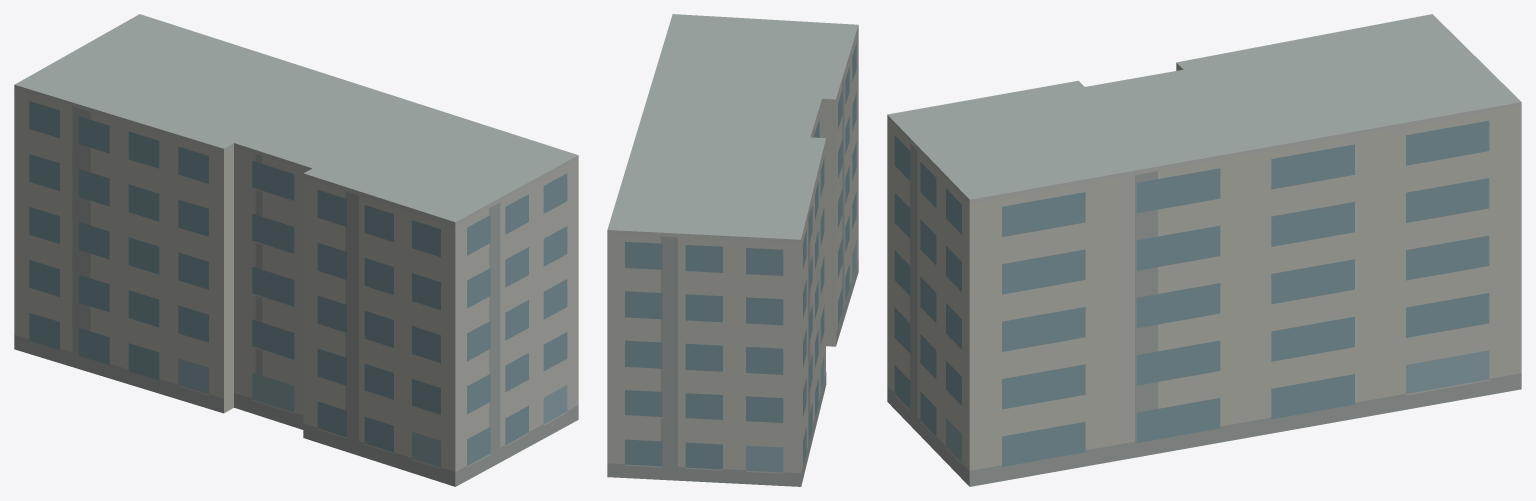
Rendered from survey-upis-32666712.glb.
The picture shows the model from 3 angles, left to right: view 1: azimuth 30°, elevation 25°; view 2: azimuth 150°, elevation 25°; view 3: azimuth 270°, elevation 25°; orthographic projection. The views are drawn at different scales.
Parts seen in each view (by area): view 1: survey-upis-32666712.tmp; view 2: survey-upis-32666712.tmp; view 3: survey-upis-32666712.tmp.
Boxes of the visible parts, left/top/right/bottom form: survey-upis-32666712.tmp: left=14, top=14, right=578, bottom=486; survey-upis-32666712.tmp: left=607, top=14, right=858, bottom=486; survey-upis-32666712.tmp: left=887, top=14, right=1521, bottom=486.
Bounding box in the file's own units: 21.17 × 15.25 × 30.55.
